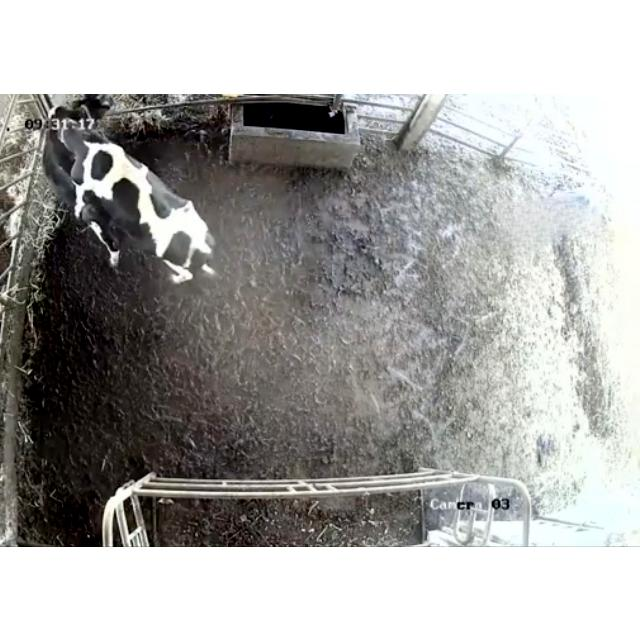ride: (44, 102, 232, 296)
